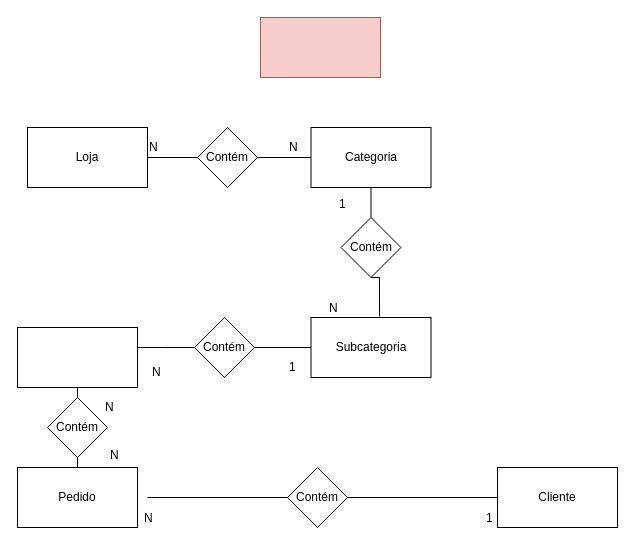
Some shapes in this 635 by 546 pixel diagram are drawn without their labels. The shapes that lost their labels are listed below. From the top down, each one's centre as x and y in pixels, then its label:
(x=320, y=47): Conceitual
(x=77, y=357): Produto
